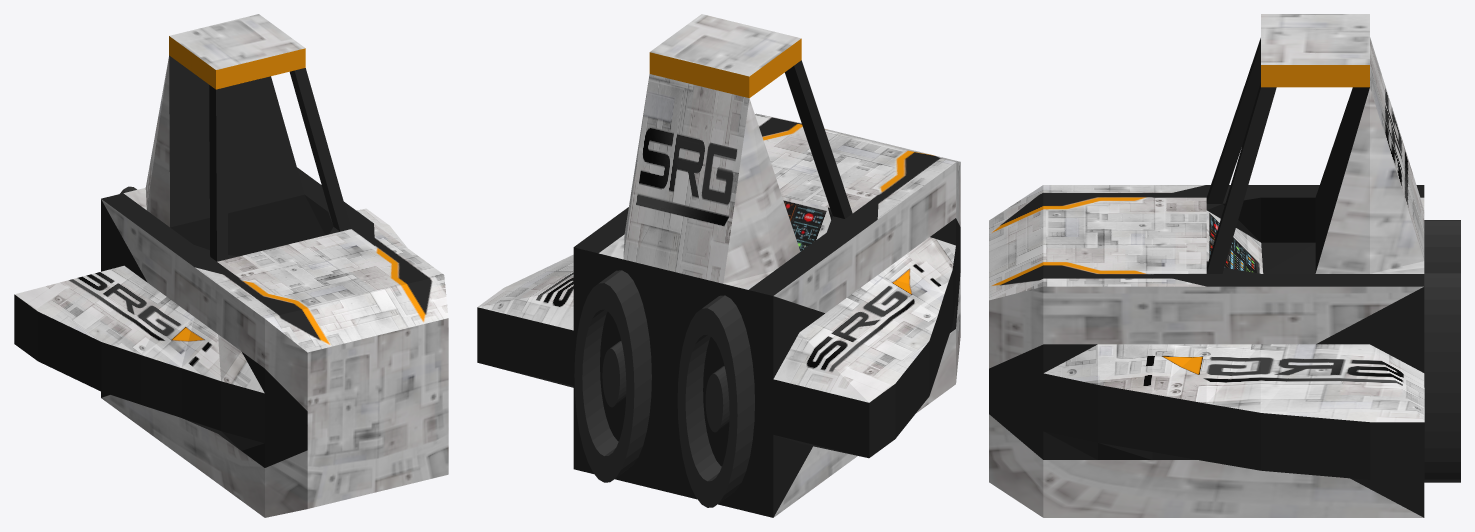
File: spaceship.obj
3 views of the same model, side by side, from view 1: azimuth 30°, elevation 25°; view 2: azimuth 150°, elevation 25°; view 3: azimuth 270°, elevation 25° (orthographic). The views are drawn at different scales.
Parts seen in each view (by area): view 1: spaceship_Cube.001; view 2: spaceship_Cube.001; view 3: spaceship_Cube.001.
Part boxes in pixels (x1,y1,x2,y2): spaceship_Cube.001: (14,14,448,517); spaceship_Cube.001: (477,14,960,517); spaceship_Cube.001: (989,14,1460,517).
Bounding box in the file's own units: 1 × 1 × 1.
